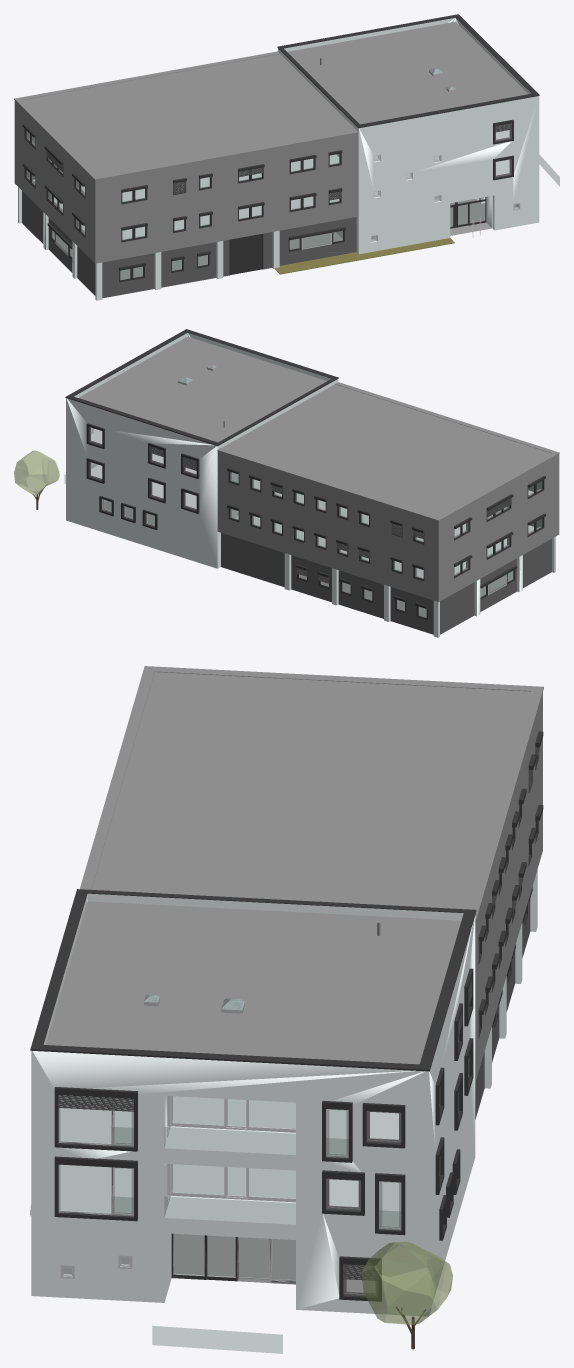
The model's file is nebovidy.glb.
3 renders of one model, top to bottom at view 1: azimuth 30°, elevation 25°; view 2: azimuth 150°, elevation 25°; view 3: azimuth 270°, elevation 25°, orthographic. The views are drawn at different scales.
Visible parts, largest first — view 1: nebovidy_architecture; view 2: nebovidy_architecture; view 3: nebovidy_architecture.
Boxes of the visible parts, <box> form: nebovidy_architecture: <box>14,14,559,300</box>; nebovidy_architecture: <box>14,329,559,637</box>; nebovidy_architecture: <box>30,666,543,1353</box>.
Size of the model in its own units: 46.61 by 11.77 by 21.69.
